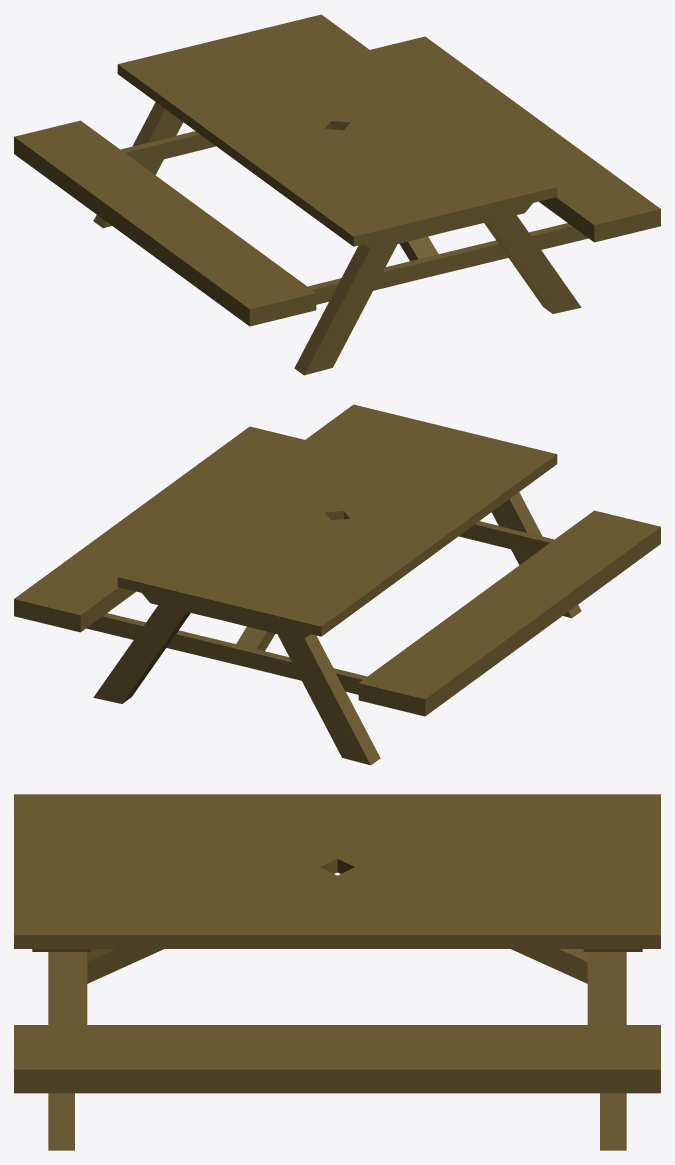
File: Bench.fbx
3 renders of one model, top to bottom at view 1: azimuth 30°, elevation 25°; view 2: azimuth 150°, elevation 25°; view 3: azimuth 270°, elevation 25°, orthographic. The views are drawn at different scales.
Visible parts, largest first — view 1: Table; view 2: Table; view 3: Table.
Part boxes in pixels (left/top/right/bottom): Table: left=14, top=14, right=660, bottom=375; Table: left=14, top=404, right=660, bottom=765; Table: left=14, top=794, right=660, bottom=1150.
Size of the model in its own units: 4.04 by 1.3 by 4.01.
